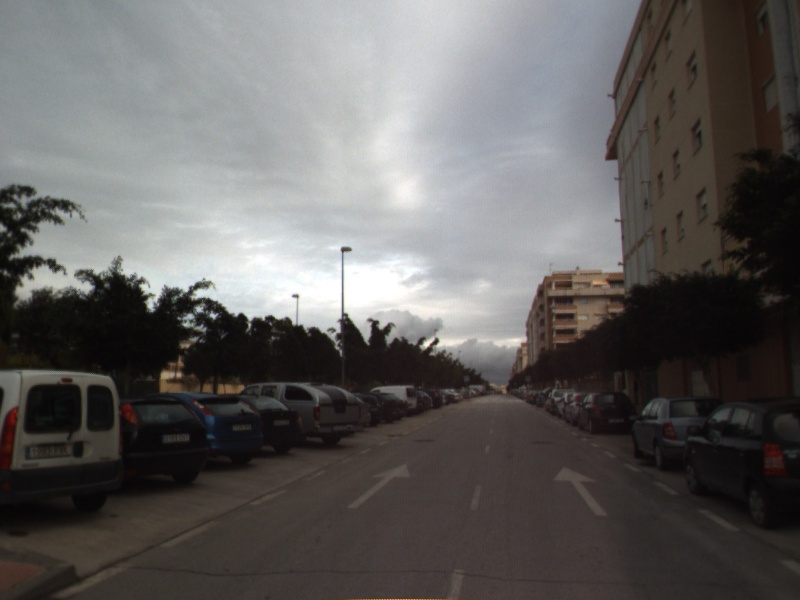STRAIGHT: (345, 462, 412, 510), (551, 464, 610, 518)
